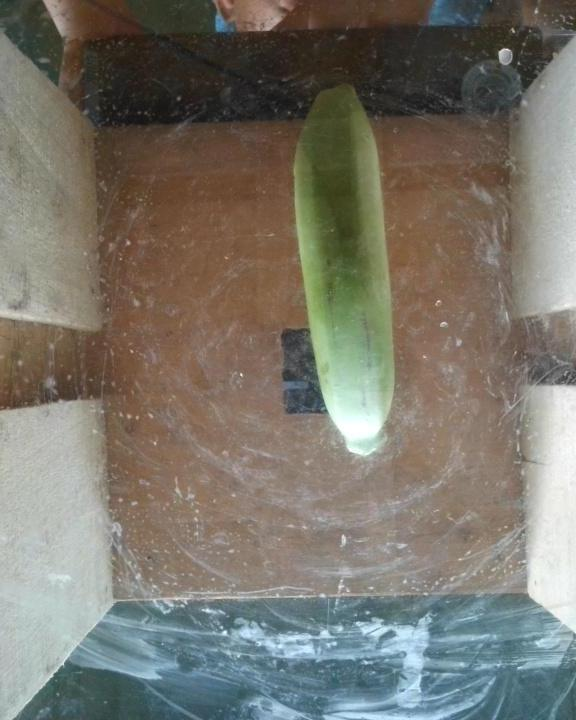CLASS B: (289, 76, 413, 463)
Class A: (323, 281, 351, 356), (361, 309, 380, 370), (356, 379, 374, 414)
